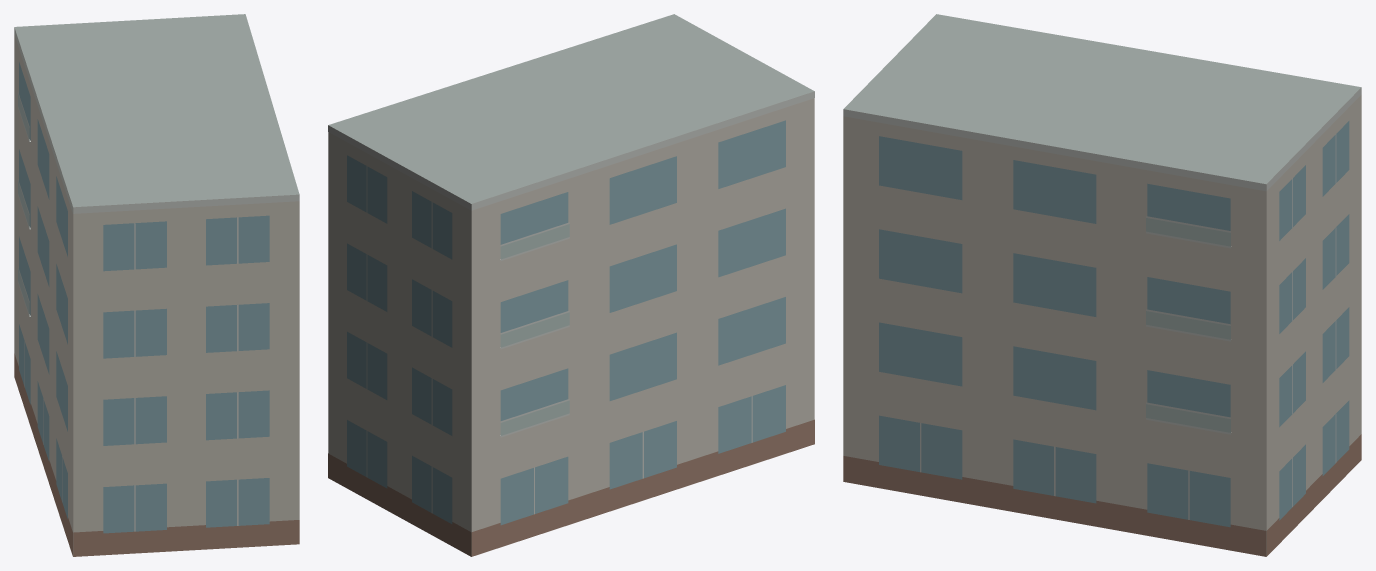
File: survey-upis-33012524.glb
3 views of the same model, side by side, from view 1: azimuth 30°, elevation 25°; view 2: azimuth 150°, elevation 25°; view 3: azimuth 270°, elevation 25° (orthographic). The views are drawn at different scales.
Parts seen in each view (by area): view 1: survey-upis-33012524.tmp; view 2: survey-upis-33012524.tmp; view 3: survey-upis-33012524.tmp.
Part boxes in pixels (x1,y1,x2,y2): survey-upis-33012524.tmp: (14, 14, 299, 556); survey-upis-33012524.tmp: (328, 14, 814, 556); survey-upis-33012524.tmp: (843, 14, 1361, 556).
Bounding box in the file's own units: 12.55 × 12.8 × 16.14.
